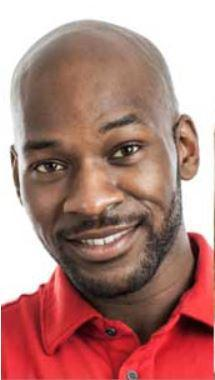Sober: (20, 71, 175, 283)
